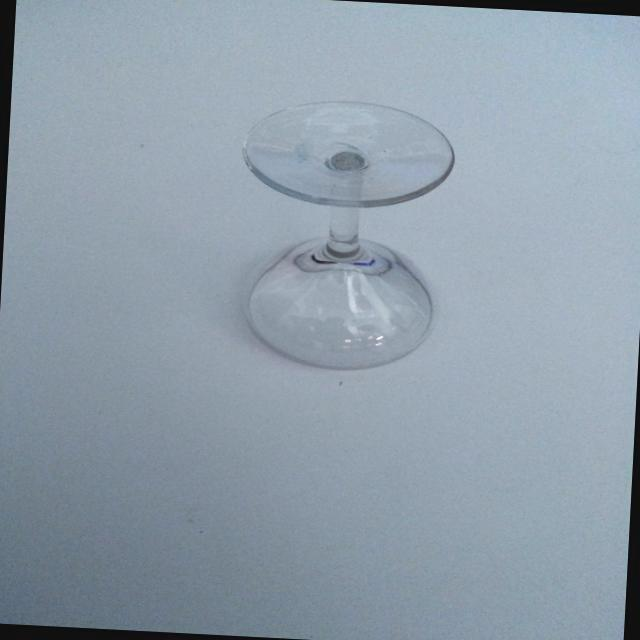glass: (211, 84, 472, 394)
